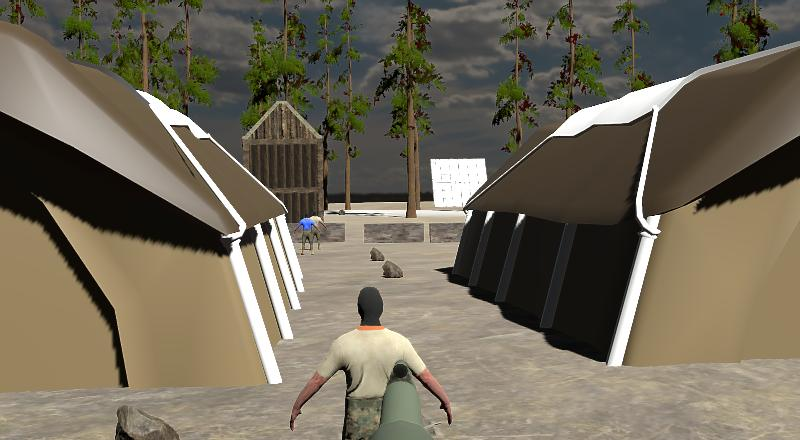House: (240, 98, 329, 223)
Human: (287, 286, 457, 440), (308, 209, 326, 250), (297, 214, 315, 253)
